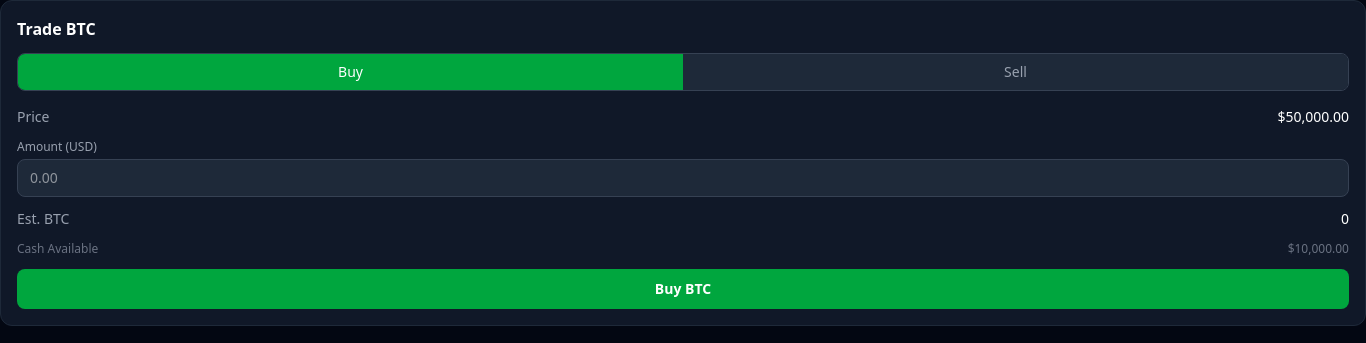
Scenario: OrderForm › switches to sell mode
Click the button "Sell" at (1016, 72), box left=683, top=54, right=1348, bottom=90
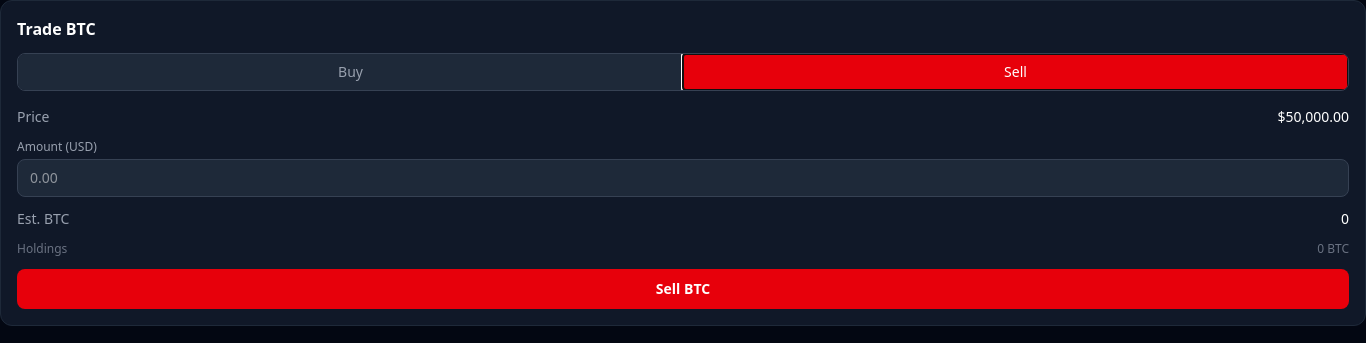
Expected: the button "Sell BTC" is shown, left=17, top=269, right=1349, bottom=309
